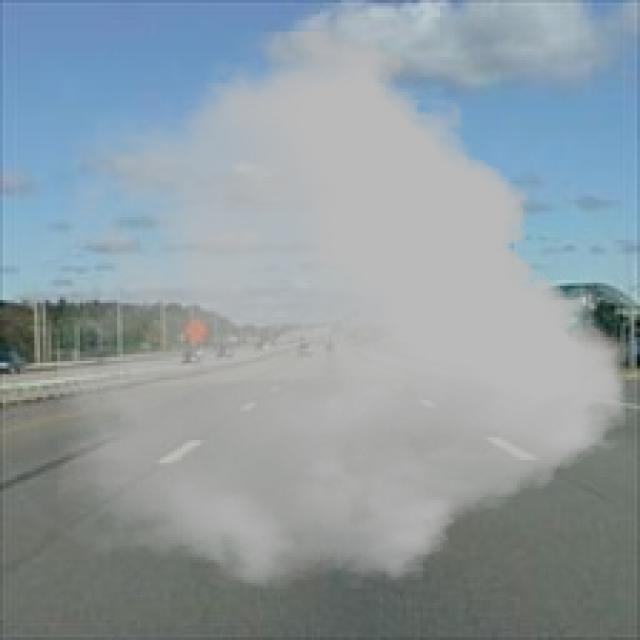smoke: (57, 31, 626, 588)
